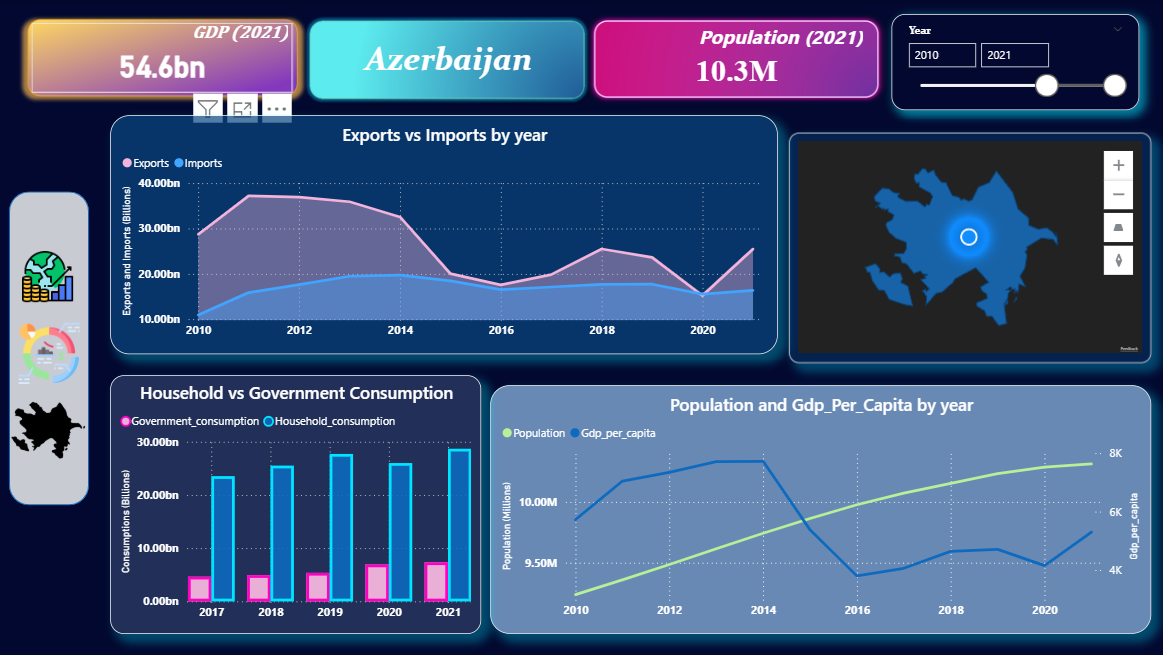

What the dashboard file says about the page in this screenshot:
{"tool":"powerbi","page":{"name":"Azerbaijan's Economy","canvas":[1280,720],"ordinal":2},"visuals":[{"type":"azureMap","title":"Azerbaijan","fields":{"name":["Min(global_economy_indicators_clean.country)"],"country":["global_economy_indicators_clean.country"],"Category":["global_economy_indicators_clean.country"]},"box":[867.2,146.8,397.9,252.5],"z":0},{"type":"slicer","fields":{"Values":["global_economy_indicators_clean.year"]},"box":[979.8,16.5,271.7,105.7],"z":1000},{"type":"image","box":[639.5,0,340.3,131.7],"z":2000},{"type":"image","title":"Gobal GDP (2021)","box":[20.6,4.1,318.4,123.5],"z":3000},{"type":"image","box":[322.5,16.5,344.4,105.7],"z":4000},{"type":"advanceCardE03760C5AB684758B56AA29F9E6C257B","fields":{"mainMeasure":["Min(global_economy_indicators_clean.country)"]},"box":[351.3,26.1,288.2,76.8],"z":5000},{"type":"advanceCardE03760C5AB684758B56AA29F9E6C257B","title":"Population (2021)","fields":{"mainMeasure":["Sum(global_economy_indicators_clean.population)"]},"box":[666.9,26.1,286.8,76.8],"z":6000},{"type":"advanceCardE03760C5AB684758B56AA29F9E6C257B","title":"GDP (2021)","fields":{"mainMeasure":["Sum(global_economy_indicators_clean.gdp)"]},"box":[35.7,26.1,286.8,76.8],"z":7000},{"type":"areaChart","title":"Exports vs Imports by year","fields":{"Category":["global_economy_indicators_clean.year"],"Y":["Sum(global_economy_indicators_clean.exports)","Sum(global_economy_indicators_clean.imports)"]},"box":[122.1,127.6,732.8,262.1],"z":8000},{"type":"lineChart","title":"Population and Gdp_Per_Capita by year","fields":{"Category":["global_economy_indicators_clean.year"],"Y2":["Avg(global_economy_indicators_clean.gdp_per_capita)"],"Y":["Sum(global_economy_indicators_clean.population)"]},"box":[539.3,424,725.9,273.1],"z":9000},{"type":"clusteredColumnChart","title":"Household vs Government Consumption","fields":{"Y":["Sum(global_economy_indicators_clean.government_consumption)","Sum(global_economy_indicators_clean.household_consumption)"],"Category":["global_economy_indicators_clean.year"]},"box":[122.1,413,407.5,284],"z":10000},{"type":"shape","box":[11,211.3,87.8,344.4],"z":11000},{"type":"image","box":[23.3,229.2,60.4,150.9],"z":12000},{"type":"image","box":[15.1,355.4,79.6,67.2],"z":13000},{"type":"image","box":[13.7,413,81,120.8],"z":14000}]}

Visuals, with their boxes in screenshot pixels (x1, y1, x2, y2), scaled from the page's 1280x720 canvas onto the 1163x656 screenshot:
"Azerbaijan" azureMap: [788,134,1149,364]
slicer - global_economy_indicators_clean.year: [890,15,1137,111]
image: [581,0,890,120]
"Gobal GDP (2021)" image: [19,4,308,116]
image: [293,15,606,111]
advanceCardE03760C5AB684758B56AA29F9E6C257B - Min(global_economy_indicators_clean.country): [319,24,581,94]
"Population (2021)" advanceCardE03760C5AB684758B56AA29F9E6C257B: [606,24,867,94]
"GDP (2021)" advanceCardE03760C5AB684758B56AA29F9E6C257B: [32,24,293,94]
"Exports vs Imports by year" areaChart: [111,116,777,355]
"Population and Gdp_Per_Capita by year" lineChart: [490,386,1150,635]
"Household vs Government Consumption" clusteredColumnChart: [111,376,481,635]
shape: [10,193,90,506]
image: [21,209,76,346]
image: [14,324,86,385]
image: [12,376,86,486]
